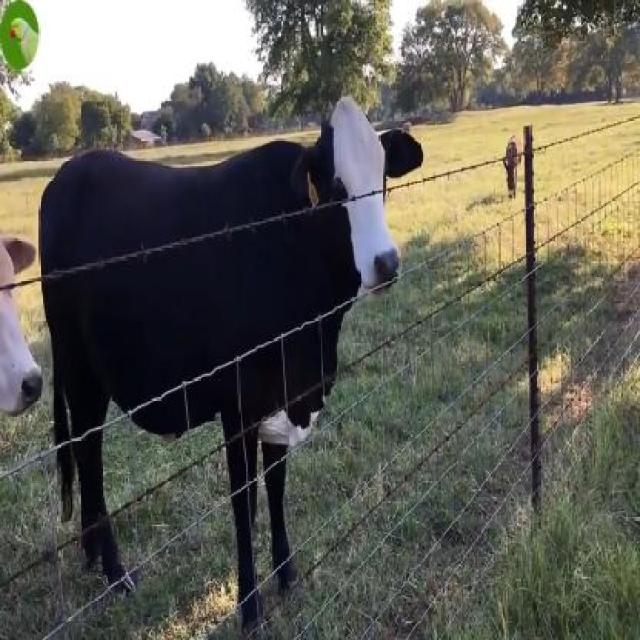Cow: (37, 97, 423, 620)
